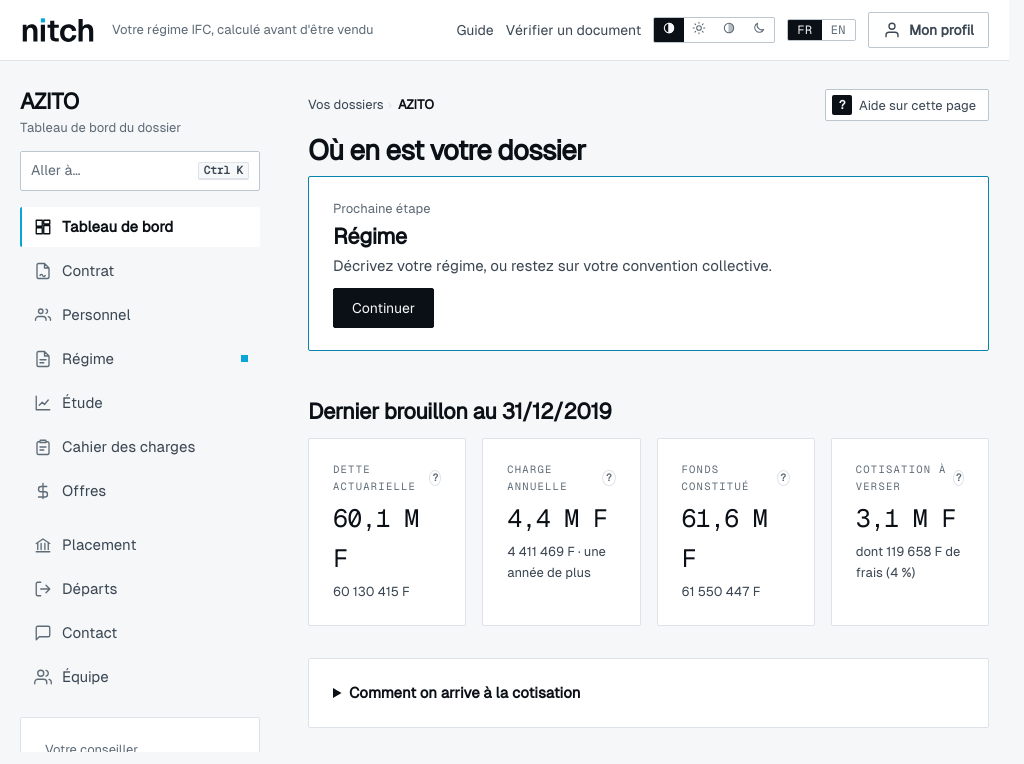
Test: dans le dossier › un chiffre clé donne sa définition en infobulle
This screenshot has width=1024, height=764.
Step 1. Click the button named "Définition : Dette actuarielle" → (435, 478), box x1=429 y1=470 x2=441 y2=486
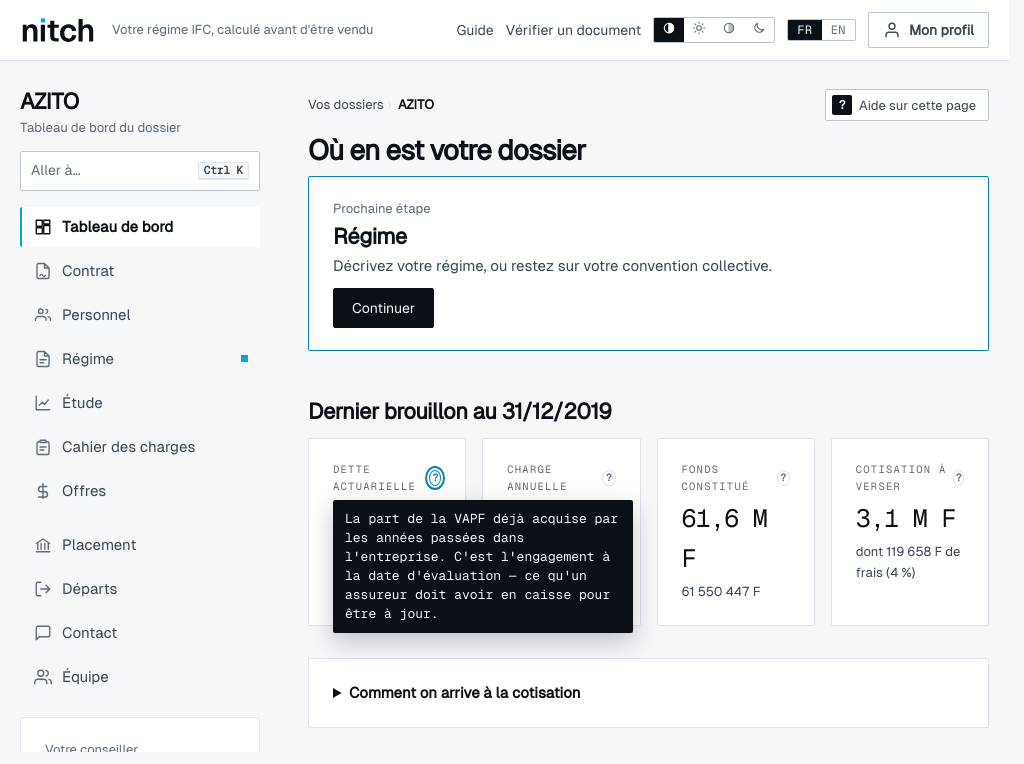
Now the tooltip shows "déjà acquise par les années passées", box x1=345 y1=510 x2=618 y2=622
